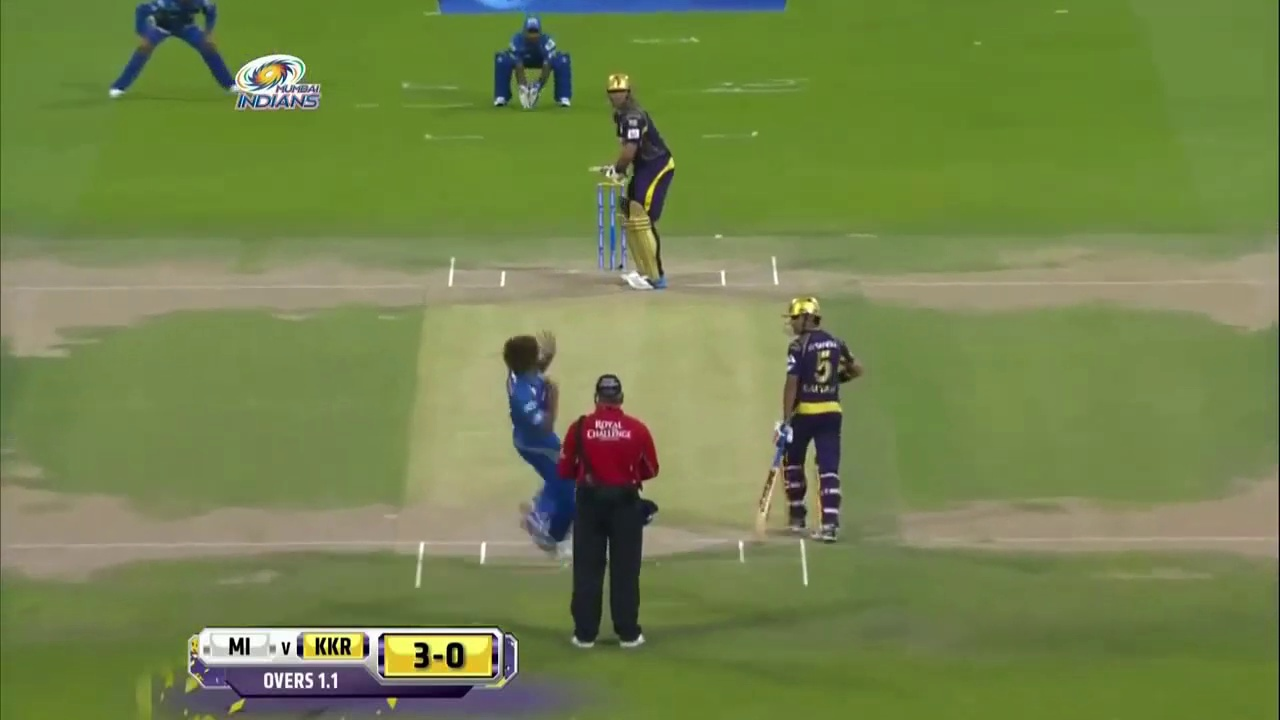bat: (752, 455, 785, 535)
